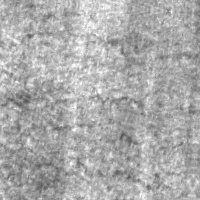crazing: (0, 86, 175, 199)
